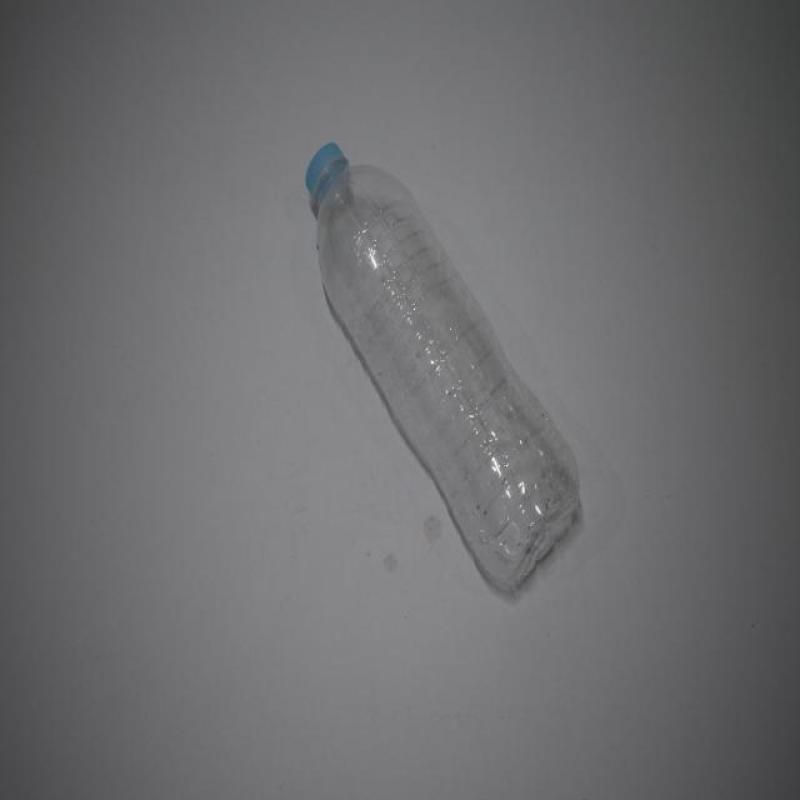botella: (302, 144, 588, 595)
